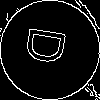D: (25, 25, 76, 68)
